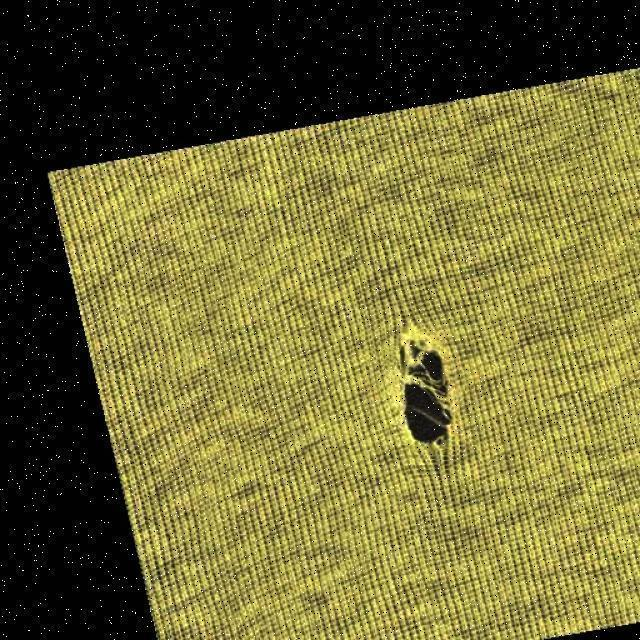other: (348, 304, 488, 488)
